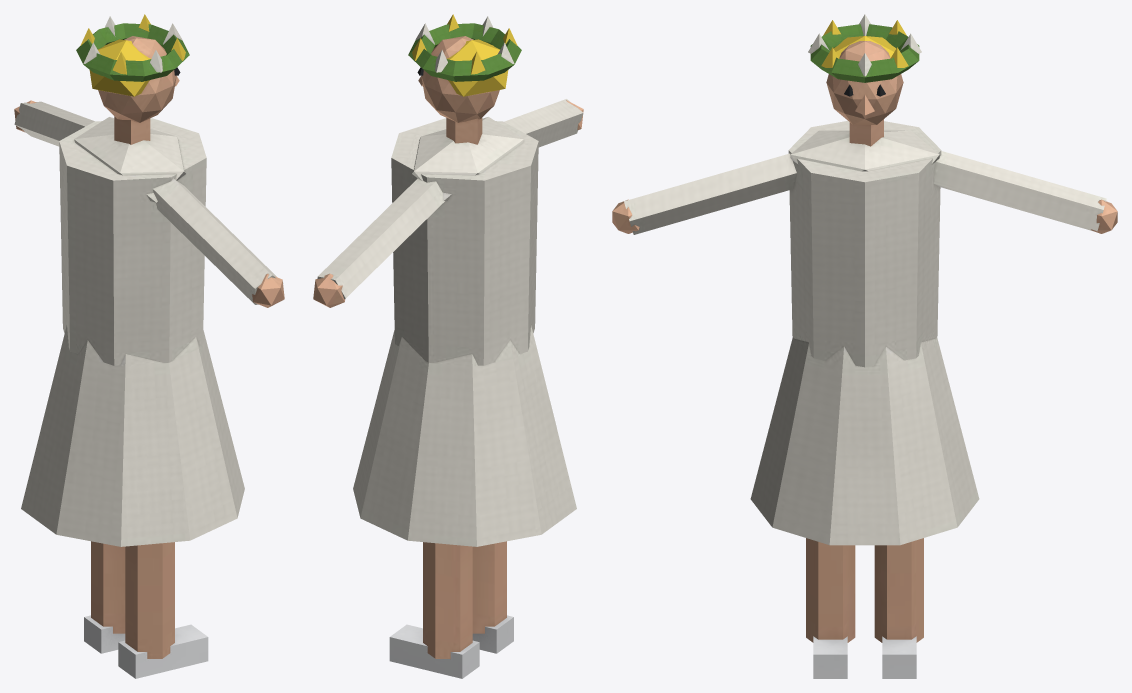
File: dansare_1_tex.glb
3 renders of one model, left to right at view 1: azimuth 30°, elevation 25°; view 2: azimuth 150°, elevation 25°; view 3: azimuth 270°, elevation 25°, orthographic.
Parts seen in each view (by area): view 1: dansare_1; view 2: dansare_1; view 3: dansare_1.
Boxes of the visible parts, bbox=[...] form: dansare_1: bbox=[14, 14, 284, 678]; dansare_1: bbox=[313, 14, 583, 678]; dansare_1: bbox=[612, 14, 1117, 678].
Bounding box in the file's own units: 0.5478 × 1.73 × 1.27.
Materials: 6 (4 with a texture image).
